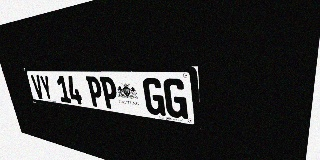1: (55, 75, 72, 103)
4: (66, 76, 83, 105)
G: (163, 78, 188, 119), (142, 78, 166, 116)
P: (99, 77, 119, 110), (86, 76, 105, 108)
V: (31, 75, 45, 99)
Y: (39, 75, 54, 101)
